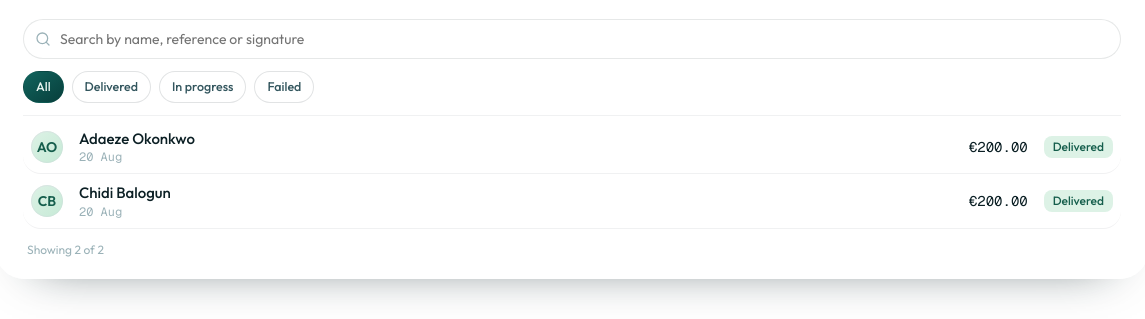
Test: TransferHistory › search filters the list and shows a distinct no-matches empty state
Expected: the text "Adaeze Okonkwo" is shown, 79,129 -> 195,148
Type "chidi" into the search field named "search transfers" at (572, 39), box 23,19 -> 1121,59
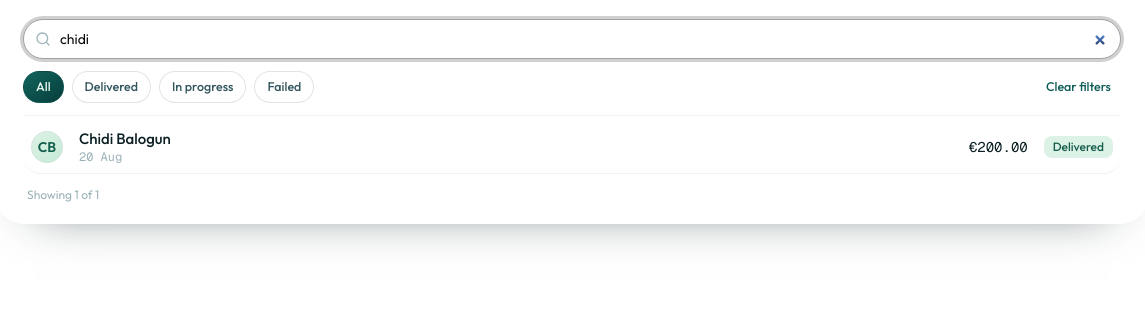
Expected: the text "Chidi Balogun" is shown, 79,129 -> 171,148
Expected: the button "Adaeze Okonkwo" is gone
Replace the text in the search field named "search transfers" with "nobody-here" at (572, 39), box 23,19 -> 1121,59
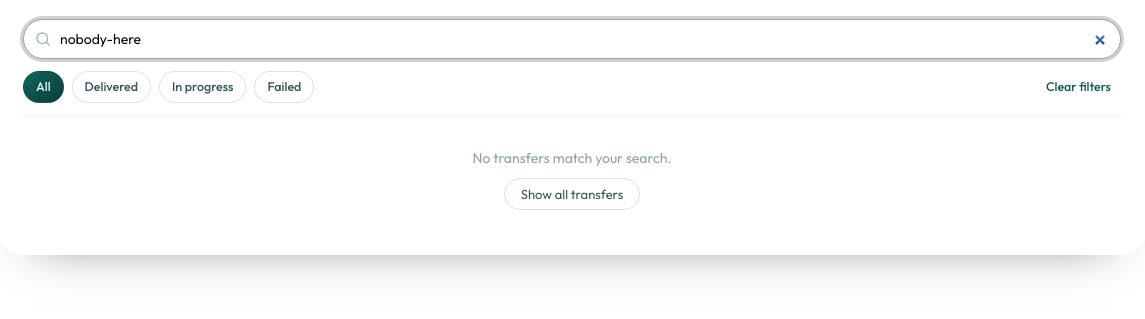
Expected: the text "No transfers match your search." is shown, 472,148 -> 672,168
Click the button "Show all transfers" at (572, 194), box 504,178 -> 640,210
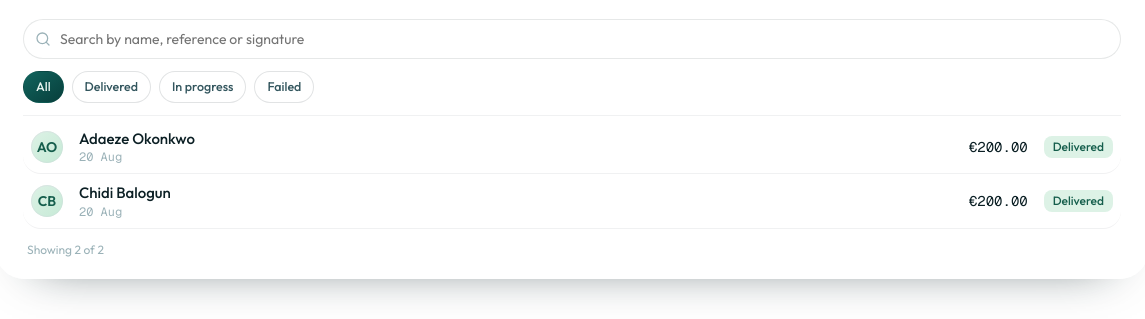
Expected: the text "Adaeze Okonkwo" is shown, 79,129 -> 195,148
